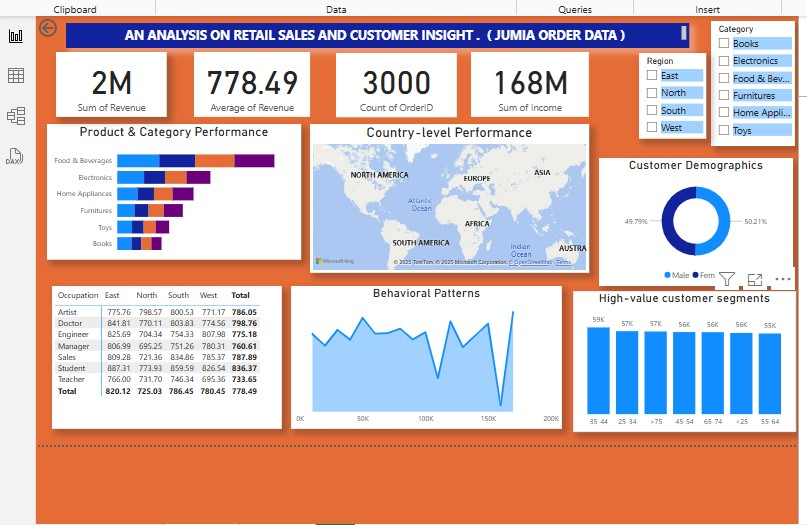

The page's visual inventory and layout, read from the dashboard file:
{"tool":"powerbi","page":{"name":"Page 1","canvas":[1280,720],"ordinal":0},"visuals":[{"type":"barChart","fields":{"Category":["DimProduct.Category"],"Y":["Sum(Fact Sales.Revenue)"],"Series":["DimTerritory.Region"]},"box":[16.8,20.2,426.7,336],"z":0},{"type":"slicer","fields":{"Values":["DimProduct.Category"]},"box":[1086.8,260.4,178.1,210],"z":1000},{"type":"donutChart","fields":{"Category":["DimCustomer.Gender"],"Y":["DimCustomer.avgordervalue"]},"box":[482.1,480.4,257,215],"z":2000},{"type":"slicer","fields":{"Values":["DimTerritory.Region"]},"box":[1152.3,20.2,112.5,144.5],"z":3000},{"type":"actionButton","box":[0,0,100,40],"z":4000},{"type":"columnChart","fields":{"Category":["DimCustomer.Age_group"],"Y":["Avg(Fact Sales.Income)"]},"box":[485.5,20.2,294,223.4],"z":5000},{"type":"lineChart","fields":{"Y":["Avg(Fact Sales.Quantity)"],"Category":["Fact Sales.Income"]},"box":[752.5,480.4,512.3,240.2],"z":6000},{"type":"pivotTable","fields":{"Rows":["DimCustomer.Occupation"],"Columns":["DimTerritory.Region"],"Values":["DimCustomer.avgordervalue"]},"box":[482.1,257,409.9,213.3],"z":7000},{"type":"card","fields":{"Values":["Sum(Fact Sales.Revenue)"]},"box":[794.5,20.2,149.5,102.5],"z":8000},{"type":"filledMap","fields":{"Series":["DimProduct.Category"],"Category":["DimTerritory.Region"]},"box":[30.2,381.3,426.7,339.3],"z":10000},{"type":"card","fields":{"Values":["Avg(Fact Sales.Revenue)"]},"box":[952.4,20.2,194.9,102.5],"z":10001},{"type":"card","fields":{"Values":["CountNonNull(Fact Sales.OrderID)"]},"box":[796.2,132.7,156.2,110.9],"z":10002},{"type":"card","fields":{"Values":["Sum(Fact Sales.Income)"]},"box":[962.5,132.7,183.1,110.9],"z":10003},{"type":"card","fields":{"Values":["Sum(Fact Sales.Cost)"]},"box":[920.5,257,151.2,99.1],"z":10004},{"type":"card","fields":{"Values":["Sum(Fact Sales.Price)"]},"box":[920.5,374.6,152.9,95.7],"z":10005}]}

Visuals, with their boxes on the page's 1280x720 design canvas (x1, y1, x2, y2). These are canvas units, not pixel positions in the 807x525 screenshot, which may show the page scaled, cropped or inside an application window:
barChart - DimProduct.Category x Sum(Fact Sales.Revenue): Rect(17, 20, 444, 356)
slicer - DimProduct.Category: Rect(1087, 260, 1265, 470)
donutChart - DimCustomer.Gender x DimCustomer.avgordervalue: Rect(482, 480, 739, 695)
slicer - DimTerritory.Region: Rect(1152, 20, 1265, 165)
actionButton: Rect(0, 0, 100, 40)
columnChart - DimCustomer.Age_group x Avg(Fact Sales.Income): Rect(486, 20, 780, 244)
lineChart - Avg(Fact Sales.Quantity) x Fact Sales.Income: Rect(752, 480, 1265, 721)
pivotTable - DimCustomer.Occupation x DimTerritory.Region: Rect(482, 257, 892, 470)
card - Sum(Fact Sales.Revenue): Rect(794, 20, 944, 123)
filledMap - DimProduct.Category x DimTerritory.Region: Rect(30, 381, 457, 721)
card - Avg(Fact Sales.Revenue): Rect(952, 20, 1147, 123)
card - CountNonNull(Fact Sales.OrderID): Rect(796, 133, 952, 244)
card - Sum(Fact Sales.Income): Rect(962, 133, 1146, 244)
card - Sum(Fact Sales.Cost): Rect(920, 257, 1072, 356)
card - Sum(Fact Sales.Price): Rect(920, 375, 1073, 470)
